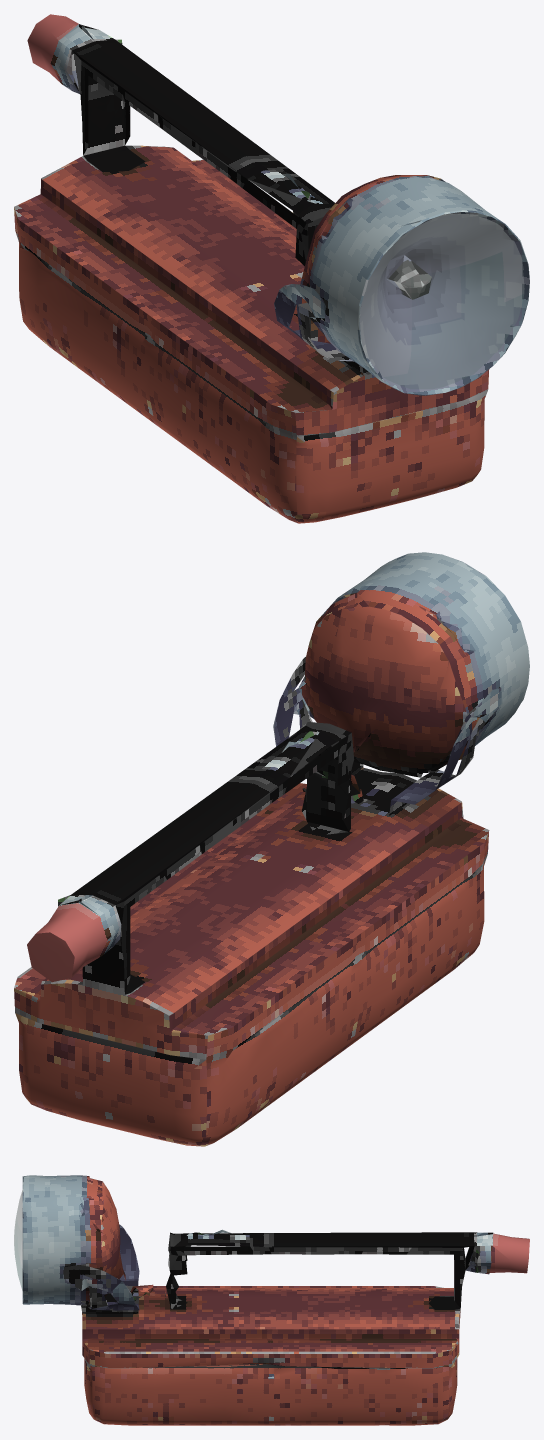
Rendered from vintage_flashlight.glb.
3 renders of one model, top to bottom at view 1: azimuth 30°, elevation 25°; view 2: azimuth 150°, elevation 25°; view 3: azimuth 270°, elevation 25°, orthographic. The views are drawn at different scales.
Visible parts, largest first — view 1: body, glass; view 2: body; view 3: body, glass.
Part boxes in pixels (bbox=[...]): body: bbox=[14, 14, 529, 523]; glass: bbox=[359, 214, 524, 388]; body: bbox=[14, 552, 529, 1146]; body: bbox=[22, 1175, 529, 1425]; glass: bbox=[14, 1190, 22, 1290].
Size of the model in its own units: 0.096 by 0.1443 by 0.3056.
Materials: 2 (2 with a texture image).
